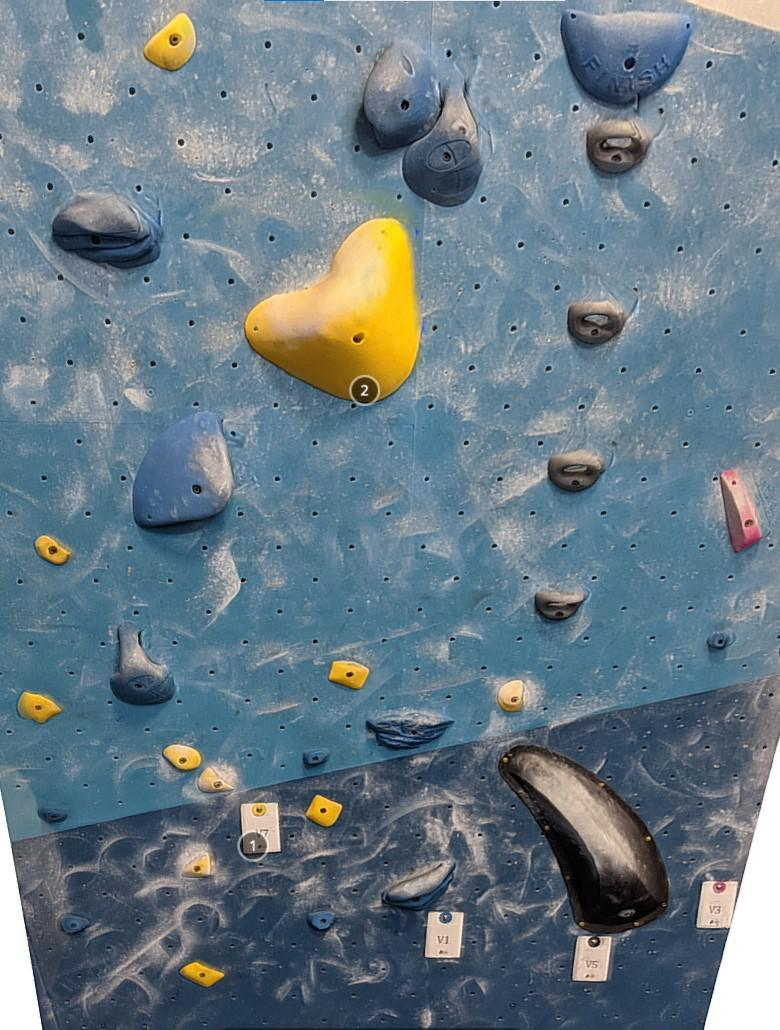hold: (245, 217, 421, 403), (499, 745, 669, 934), (560, 7, 692, 104), (132, 411, 235, 530), (401, 62, 482, 207), (52, 192, 164, 270), (363, 38, 440, 149), (110, 620, 176, 706), (366, 707, 455, 750), (382, 858, 455, 910), (721, 469, 762, 553), (587, 120, 649, 174), (144, 12, 196, 71), (568, 300, 625, 345), (548, 449, 603, 492), (535, 591, 587, 621), (17, 691, 63, 724), (329, 660, 370, 690), (306, 794, 343, 827), (180, 961, 224, 987), (34, 534, 70, 565), (163, 744, 203, 771), (497, 678, 526, 712), (197, 767, 234, 792), (181, 852, 211, 878), (61, 913, 91, 934), (307, 910, 336, 930), (708, 631, 738, 650), (302, 748, 330, 768), (37, 808, 68, 824)
